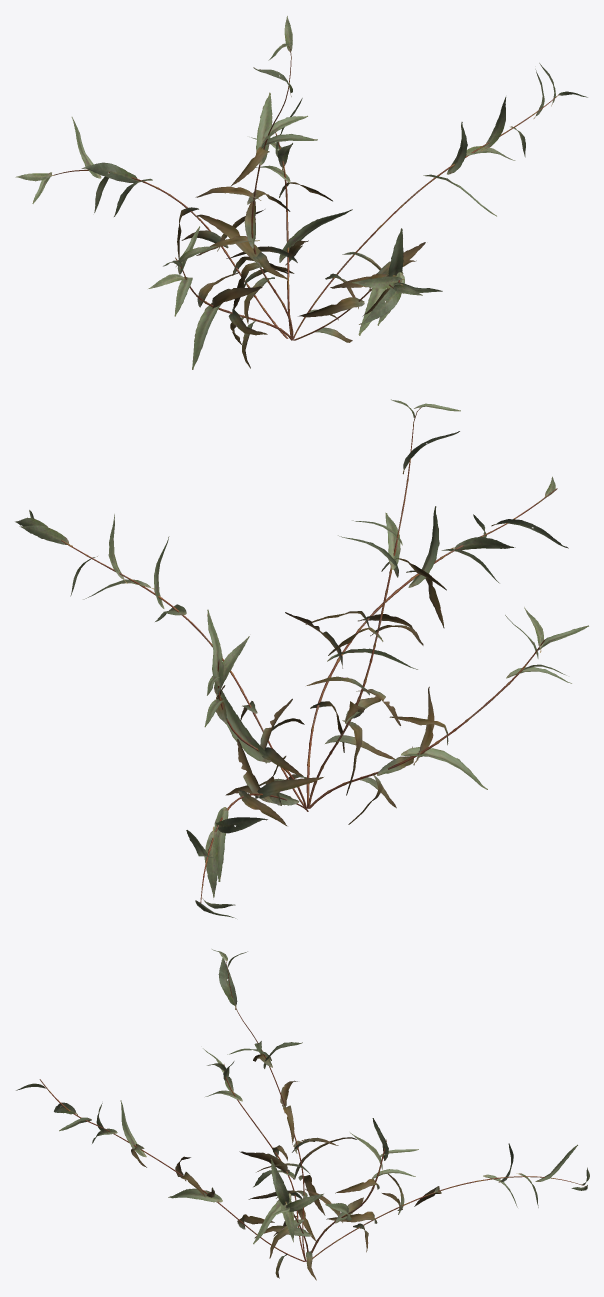
The model's file is ph_shrub_3.glb.
The picture shows the model from 3 angles, top to bottom: view 1: azimuth 30°, elevation 25°; view 2: azimuth 150°, elevation 25°; view 3: azimuth 270°, elevation 25°; orthographic projection. The views are drawn at different scales.
Visible parts, largest first — view 1: ph_shrub_3_lod1; view 2: ph_shrub_3_lod1; view 3: ph_shrub_3_lod1.
Part boxes in pixels (x1=…): ph_shrub_3_lod1: x1=15, y1=16, x2=587, y2=369; ph_shrub_3_lod1: x1=15, y1=399, x2=588, y2=918; ph_shrub_3_lod1: x1=16, y1=949, x2=589, y2=1280.
Size of the model in its own units: 1.77 by 1.29 by 2.29.
1 material, 1 textured.
